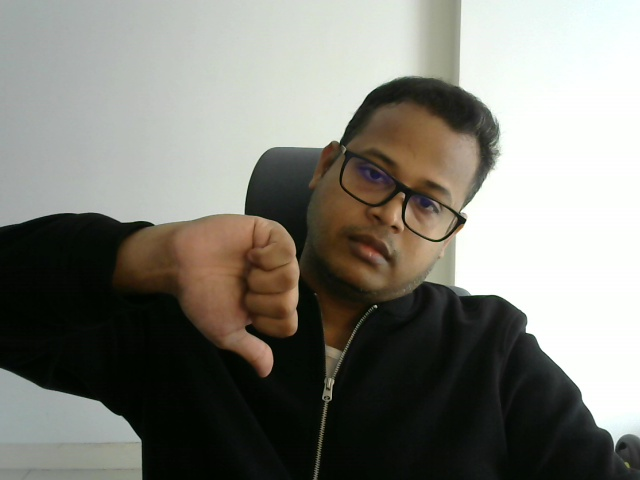ThumbsDown: (178, 213, 300, 379)
